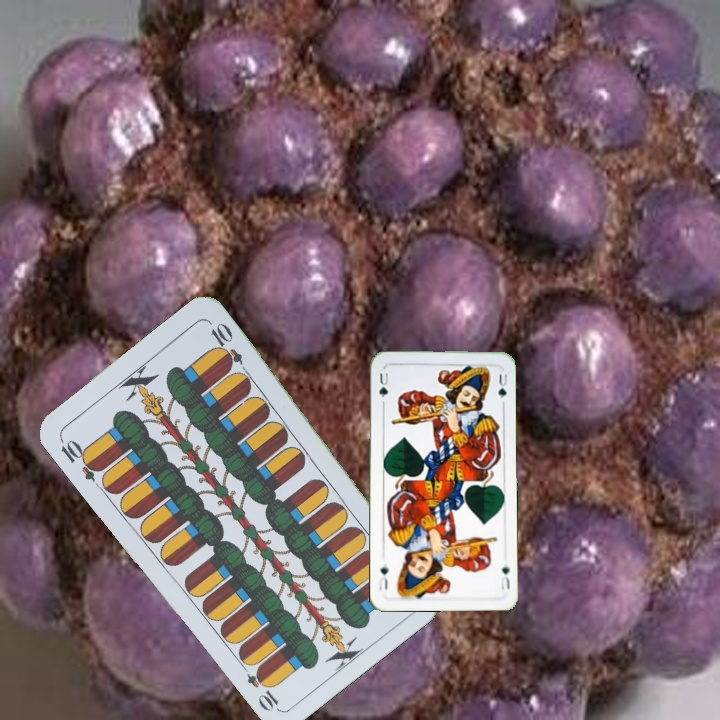E10: (55, 434, 105, 484)
GU: (375, 369, 391, 406), (497, 562, 512, 593)
